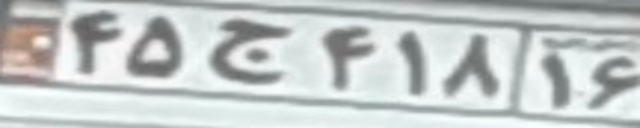1: (394, 30, 429, 95), (544, 52, 571, 105)
4: (323, 24, 375, 90), (70, 9, 118, 76)
5: (125, 15, 179, 77)
6: (584, 55, 634, 109)
8: (444, 33, 500, 95)
jim: (209, 18, 282, 84)
